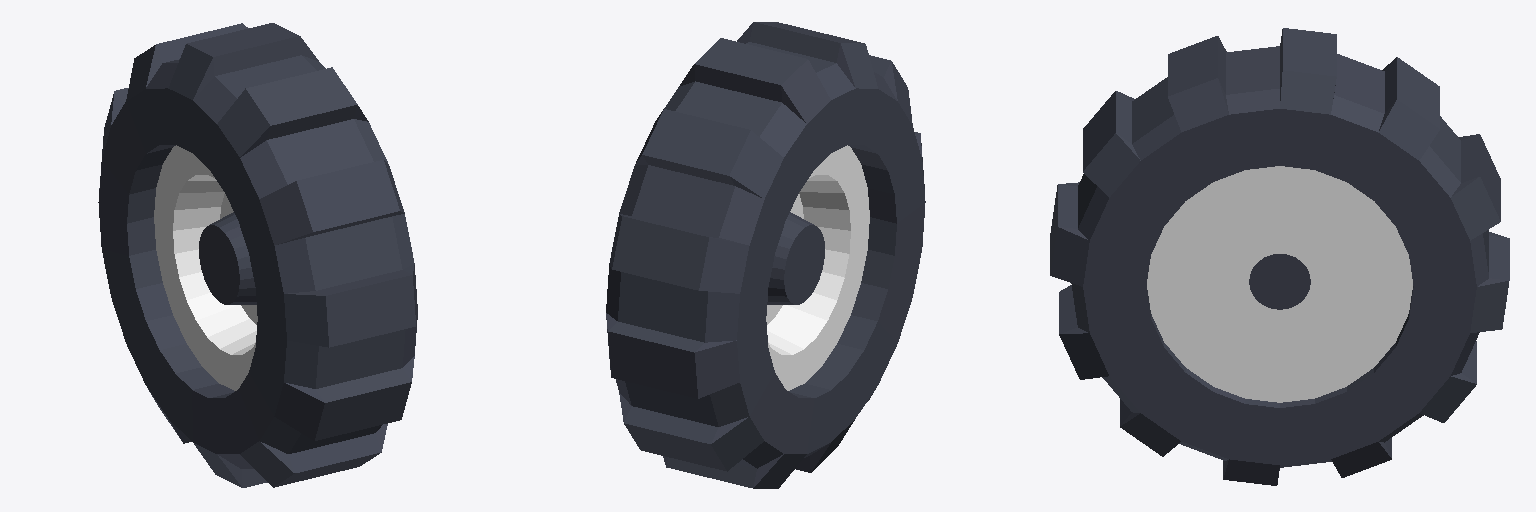
Rendered from Wheel01.obj.
The picture shows the model from 3 angles: view 1: azimuth 30°, elevation 25°; view 2: azimuth 150°, elevation 25°; view 3: azimuth 270°, elevation 25°; orthographic projection.
Visible parts, largest first — view 1: Wheel01; view 2: Wheel01; view 3: Wheel01.
Part boxes in pixels (x1,y1,x2,y2): Wheel01: (98,23,417,487); Wheel01: (606,22,925,488); Wheel01: (1050,28,1509,485).
Size of the model in its own units: 0.2163 by 0.6755 by 0.6755.